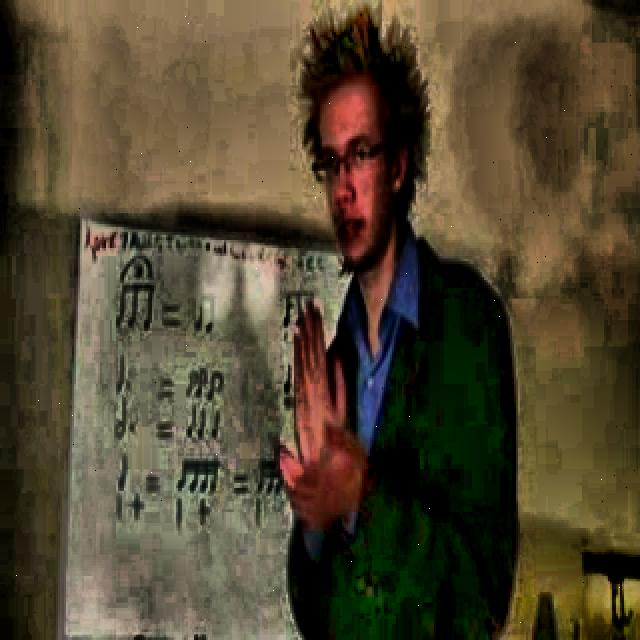F: (268, 1, 530, 640)
